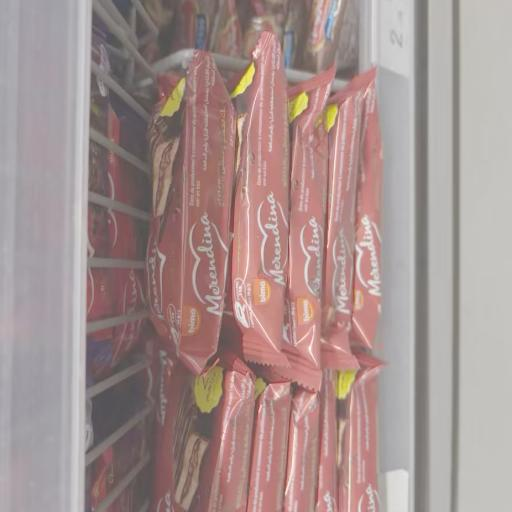merendina: (132, 52, 232, 376), (236, 44, 298, 378), (344, 68, 406, 376), (145, 372, 243, 512)
